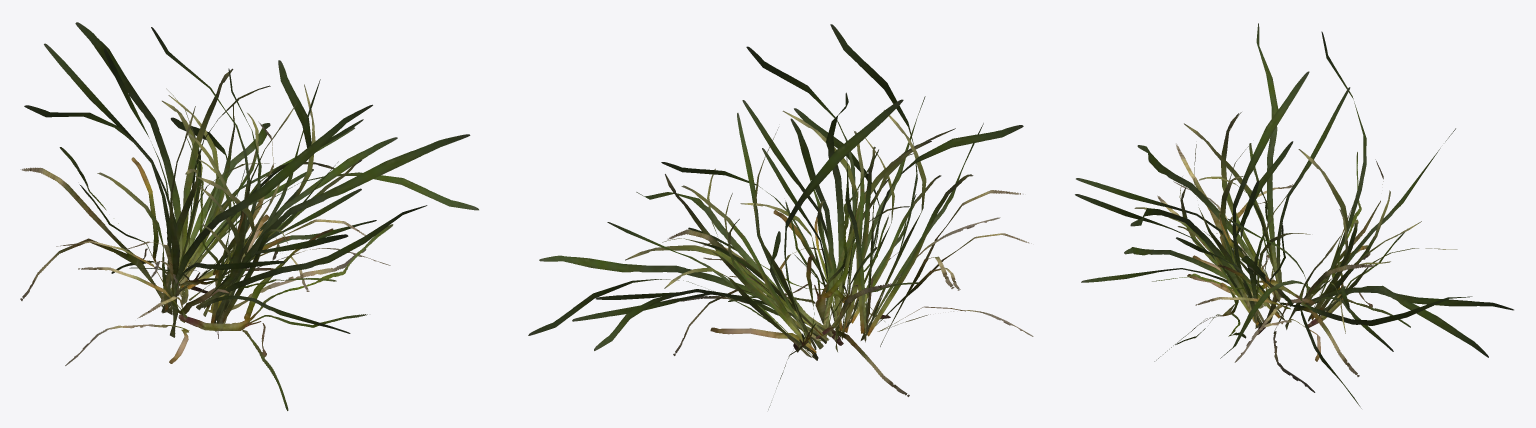
The picture shows the model from 3 angles, left to right: view 1: azimuth 30°, elevation 25°; view 2: azimuth 150°, elevation 25°; view 3: azimuth 270°, elevation 25°; orthographic projection. The views are drawn at different scales.
Visible parts, largest first — view 1: grass_medium_01__d_lod0; view 2: grass_medium_01__d_lod0; view 3: grass_medium_01__d_lod0.
Boxes of the visible parts, left/top/right/bottom form: grass_medium_01__d_lod0: left=20, top=22, right=478, bottom=410; grass_medium_01__d_lod0: left=528, top=24, right=1033, bottom=409; grass_medium_01__d_lod0: left=1075, top=23, right=1513, bottom=408.
Size of the model in its own units: 0.1994 by 0.1506 by 0.2098.
Materials: 1 (1 with a texture image).
